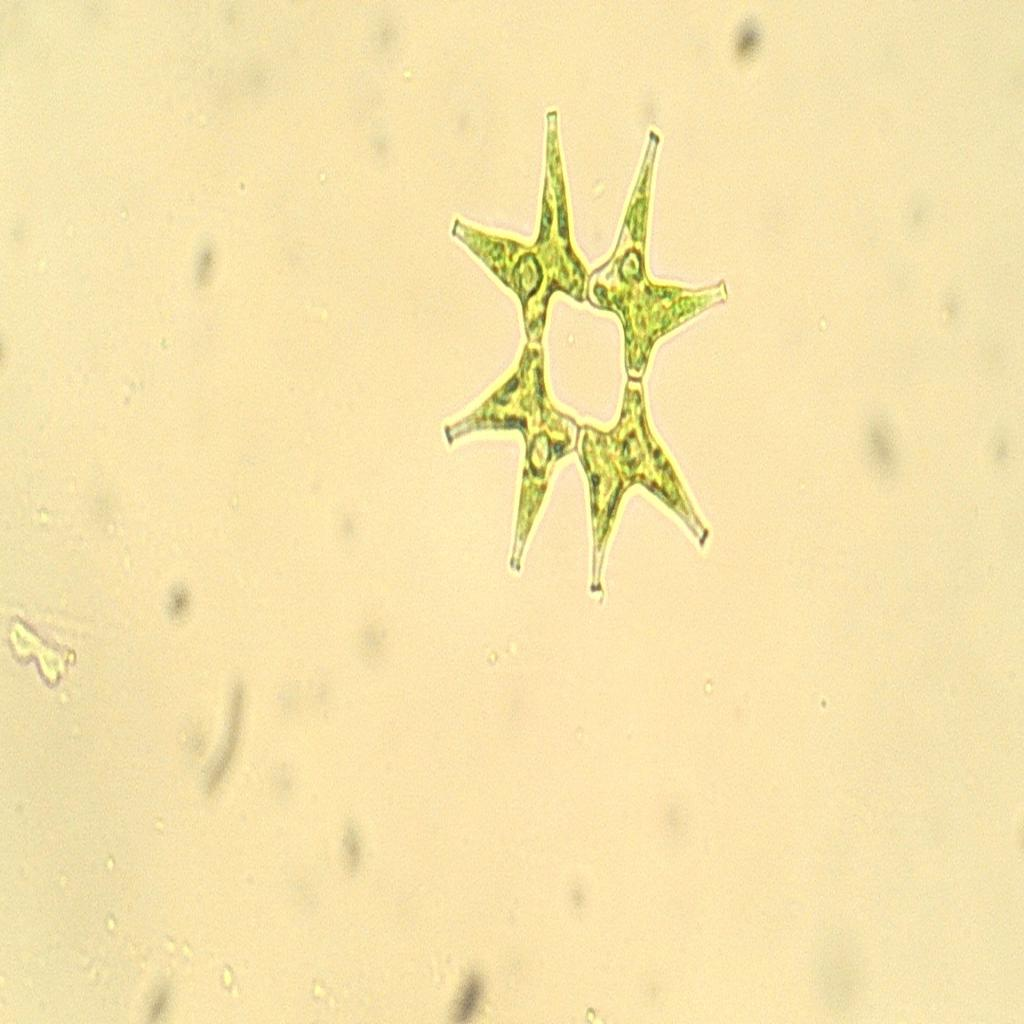Pediastrum_CO: (433, 87, 745, 634)
